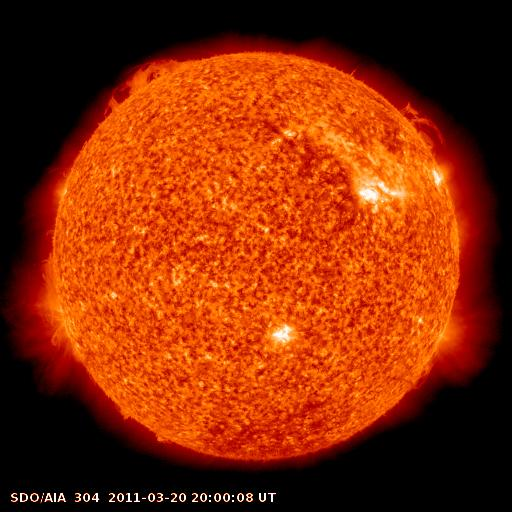prominence: (97, 50, 188, 119), (388, 90, 452, 155), (406, 355, 439, 399)
